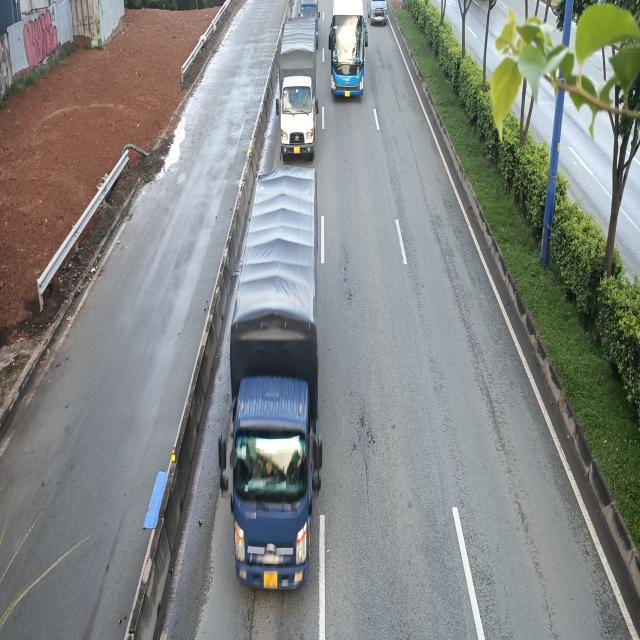coach: (329, 1, 368, 102)
truck: (222, 172, 328, 600), (275, 17, 319, 162)
